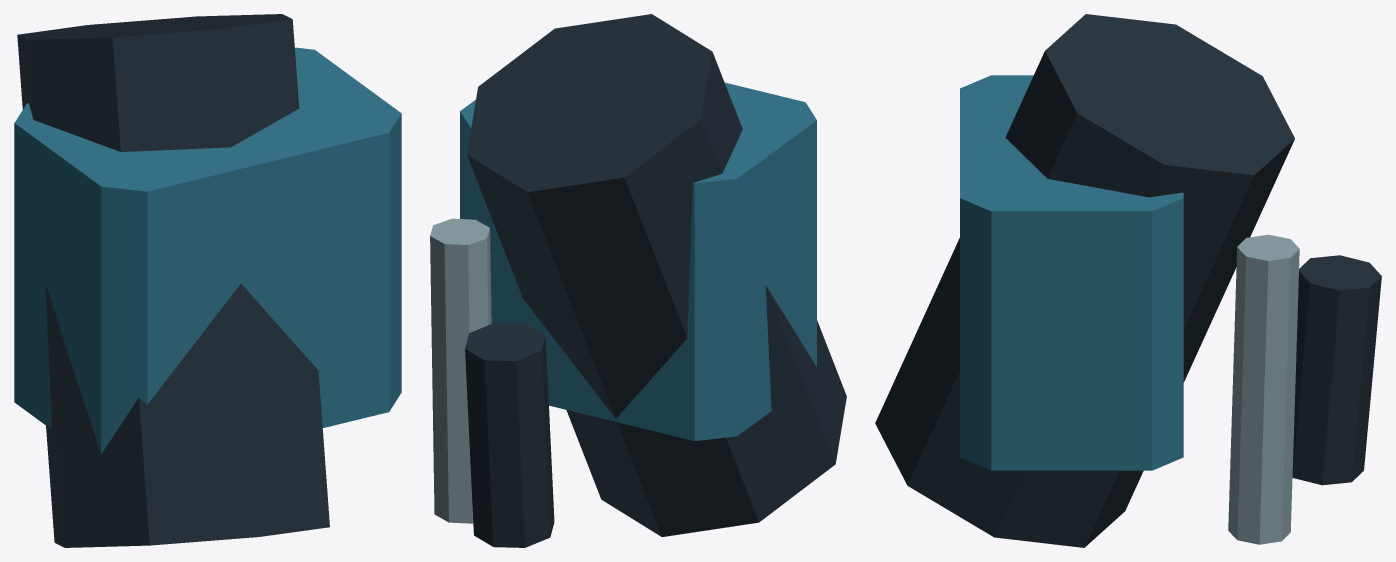
The model's file is enemy_marksman_thigh_l.obj.
3 views of the same model, side by side, from view 1: azimuth 30°, elevation 25°; view 2: azimuth 150°, elevation 25°; view 3: azimuth 270°, elevation 25° (orthographic). The views are drawn at different scales.
Bounding box in the file's own units: 0.3939 × 0.5985 × 0.5667.
